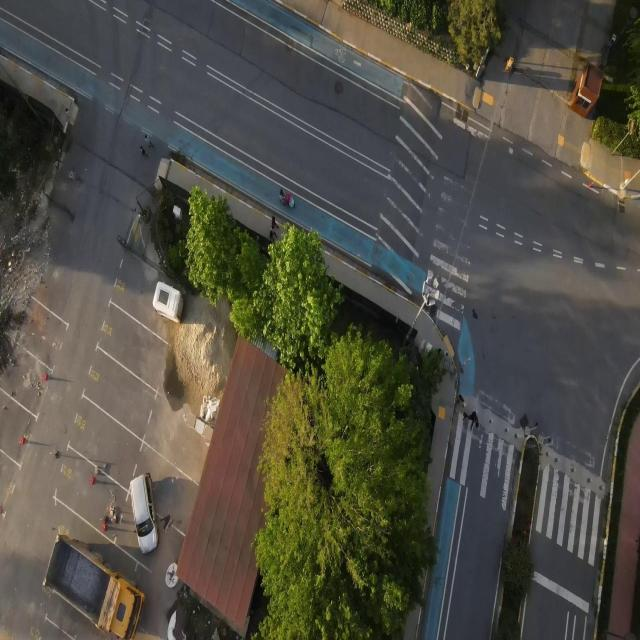p3rson: (467, 410, 478, 433), (144, 133, 155, 148), (278, 186, 286, 206), (270, 222, 278, 239), (271, 214, 279, 230), (140, 144, 148, 158), (462, 410, 469, 421)
